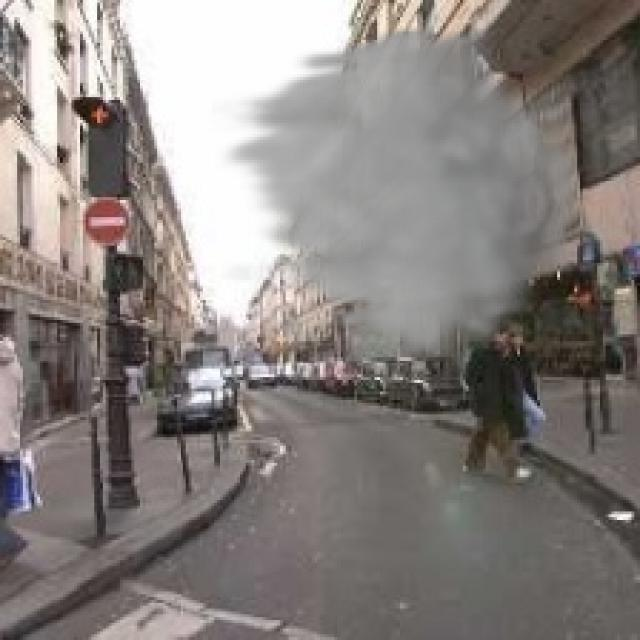smoke: (211, 23, 583, 366)
